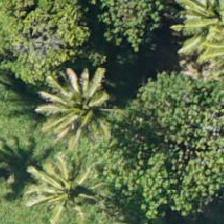coconut_tree: (2, 59, 92, 149), (14, 147, 104, 223), (164, 0, 223, 46)
